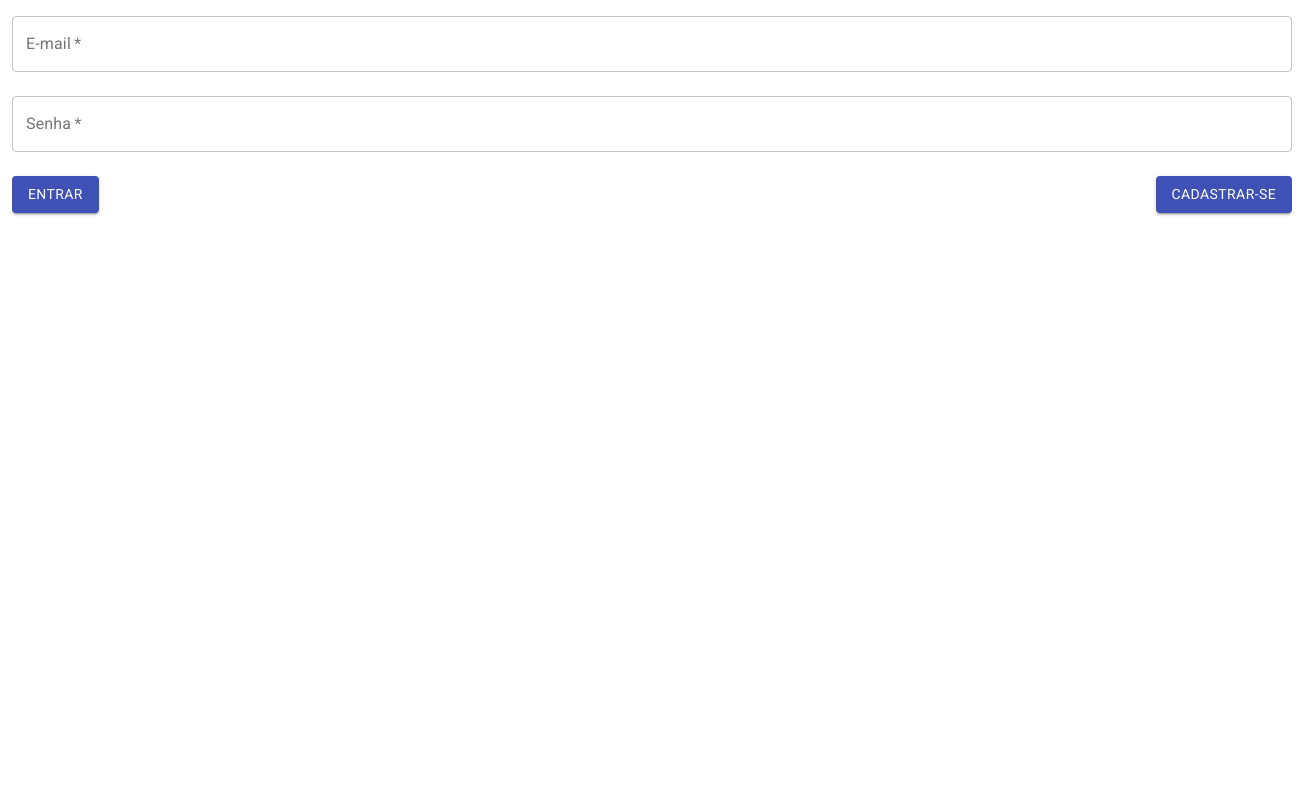
Test: Login › Deve dar erro ao enviar o formulário na tela de Login
Type "teste@valido.com" into the field labelled "E-mail *" at (652, 44), box [12,16,1292,72]
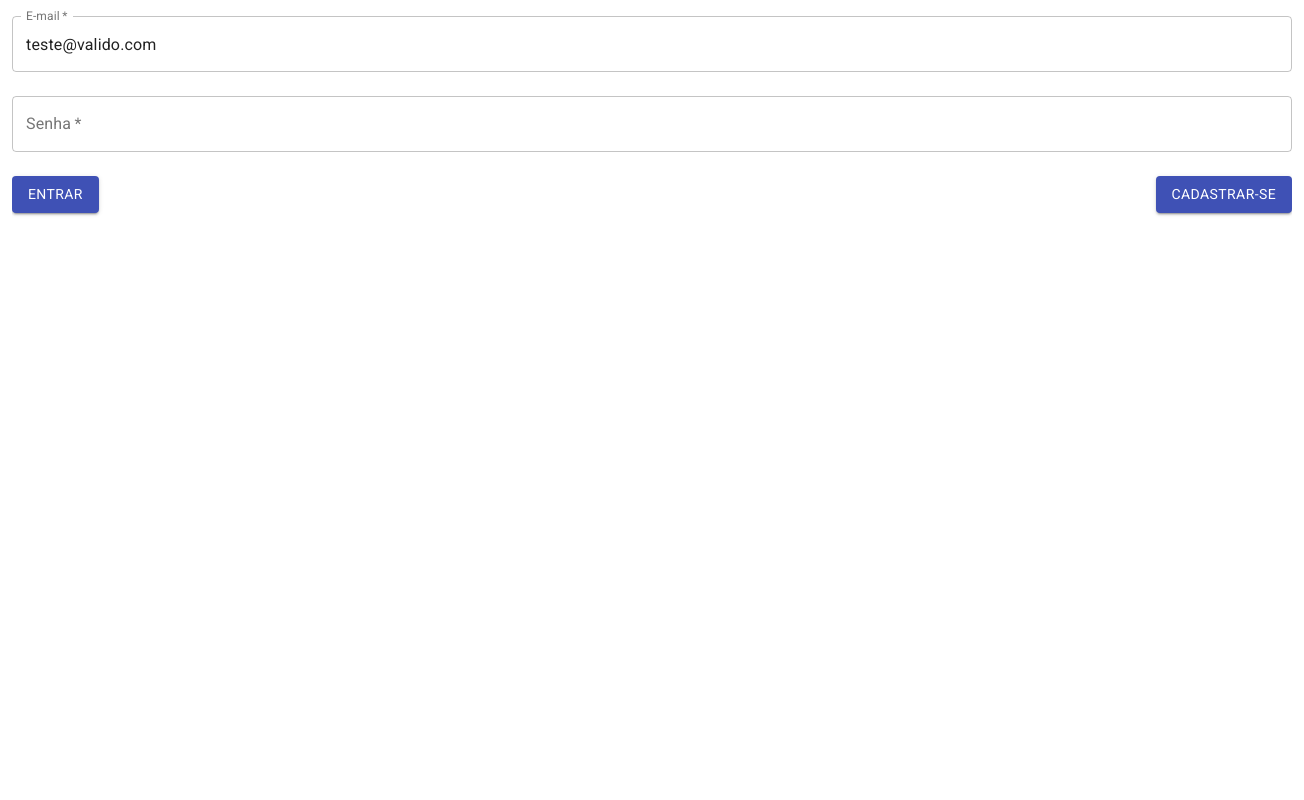
Type "s3nh4v4l1d4#" into the password field labelled "Senha *" at (652, 124), box [12,96,1292,152]
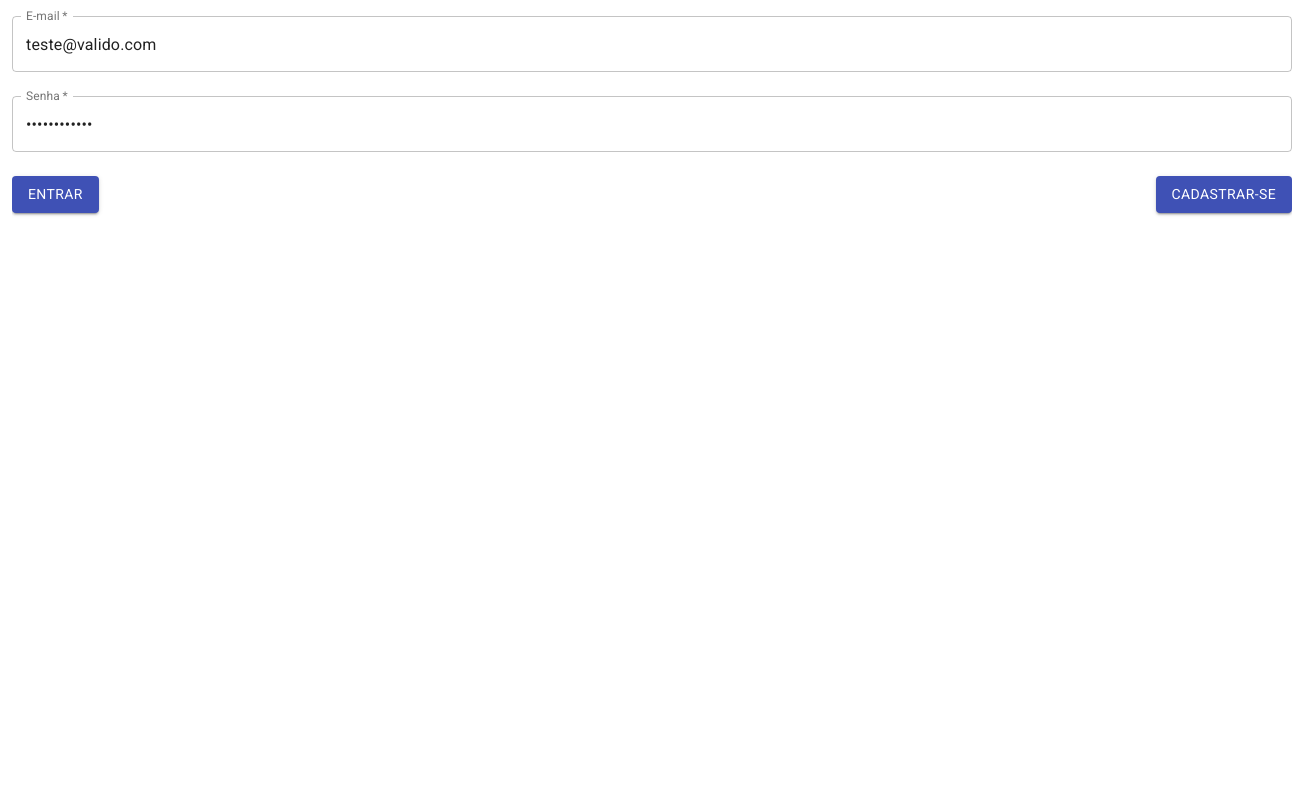
Click the button with test id "submitButton" at (55, 194), box [12,176,99,212]
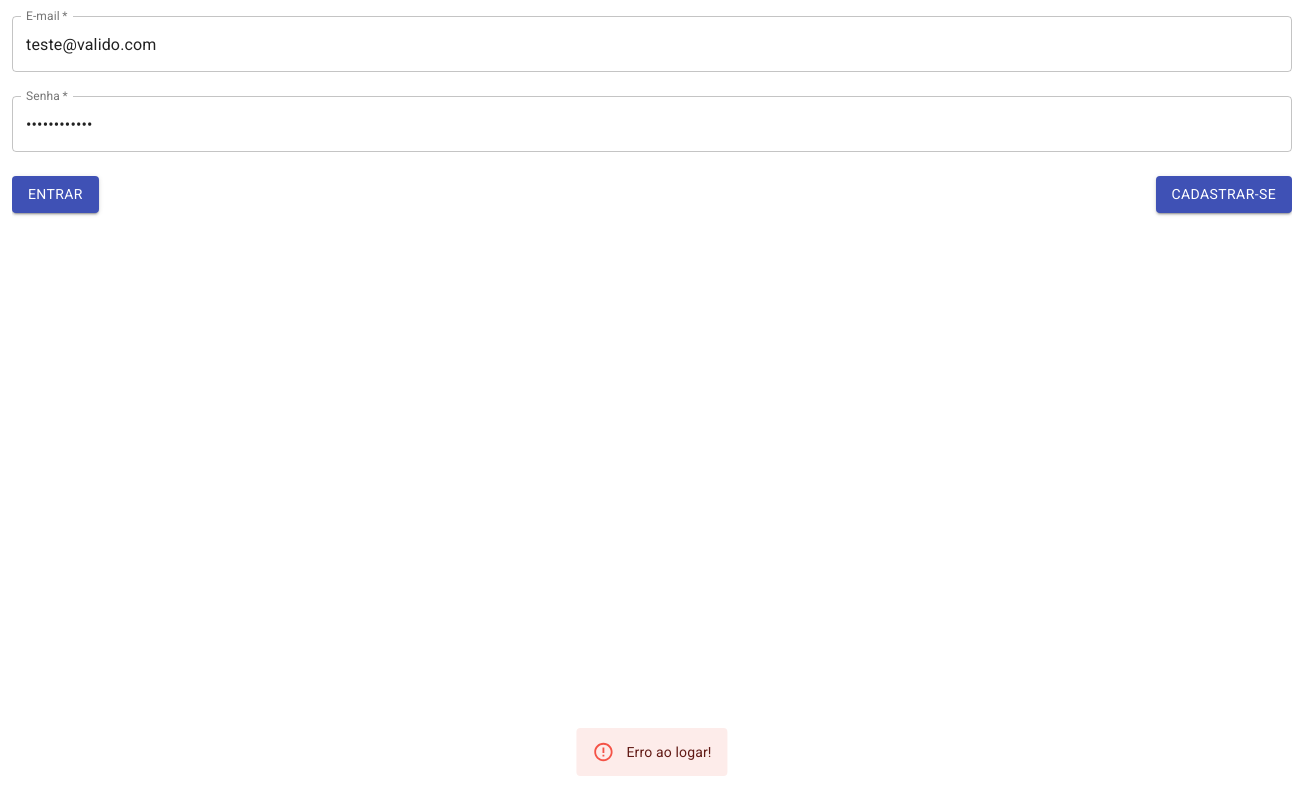
Now the text "Erro ao logar!" is shown, box [626,744,712,760]
